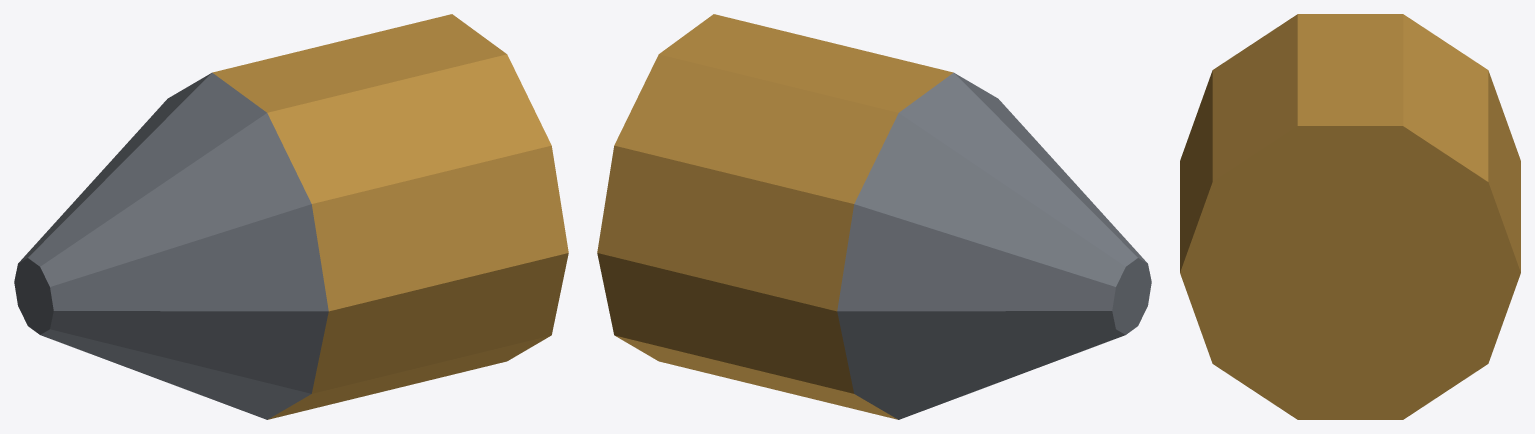
The picture shows the model from 3 angles, left to right: view 1: azimuth 30°, elevation 25°; view 2: azimuth 150°, elevation 25°; view 3: azimuth 270°, elevation 25°; orthographic projection. The views are drawn at different scales.
Parts seen in each view (by area): view 1: B_9x19_Body, B_9x19_Tip; view 2: B_9x19_Body, B_9x19_Tip; view 3: B_9x19_Body.
Part boxes in pixels (x1,y1,x2,y2): B_9x19_Body: (212, 14, 568, 419); B_9x19_Tip: (14, 72, 328, 419); B_9x19_Body: (597, 14, 953, 419); B_9x19_Tip: (837, 72, 1151, 419); B_9x19_Body: (1180, 14, 1520, 419).
Size of the model in its own units: 0.026 by 0.0171 by 0.018.
